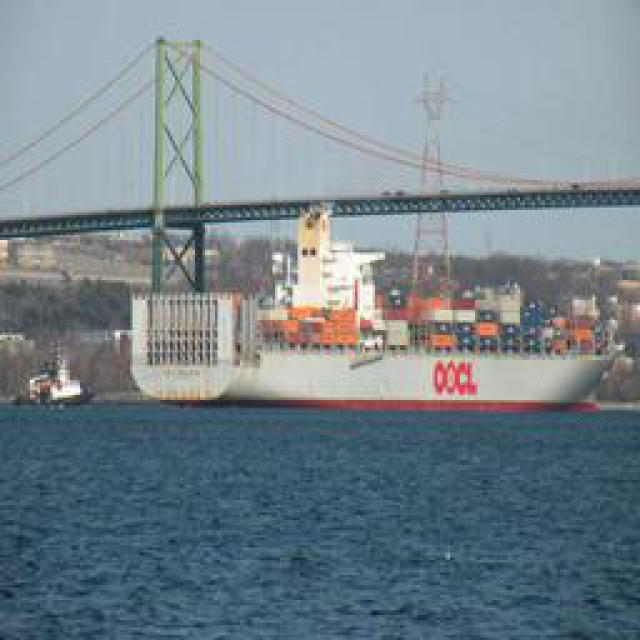Ship: (116, 197, 617, 417), (19, 365, 92, 408)
